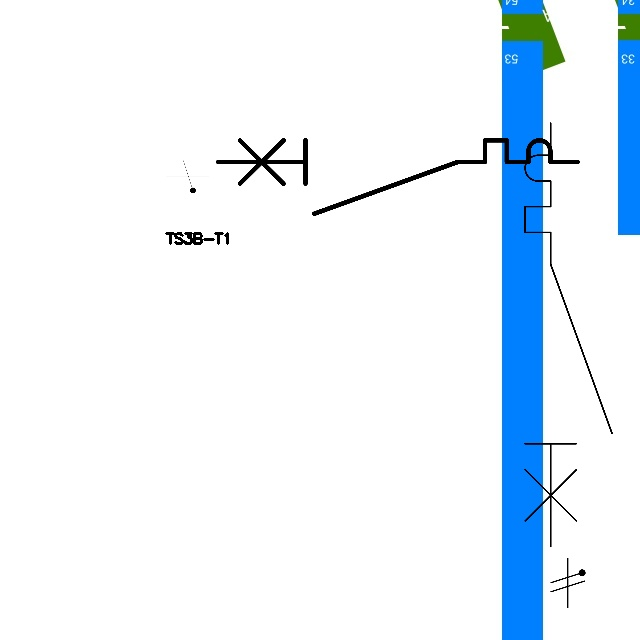interruptor_termomagnetico: (514, 112, 623, 558), (208, 131, 586, 223)
